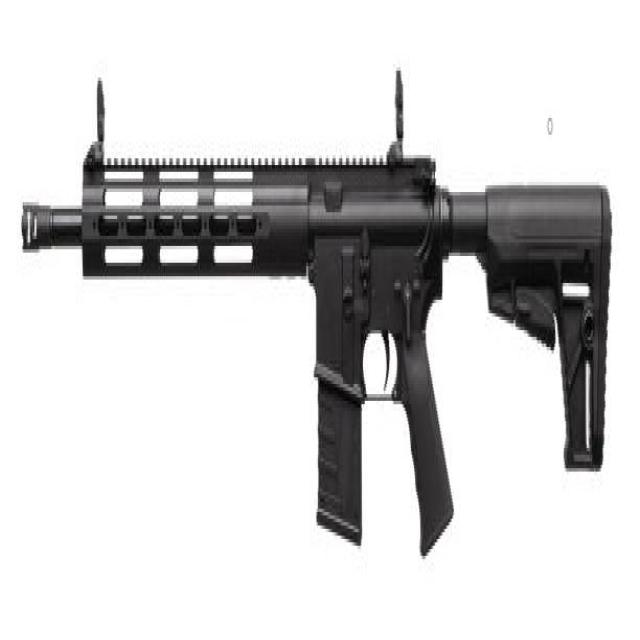rifle: (22, 53, 619, 591)
